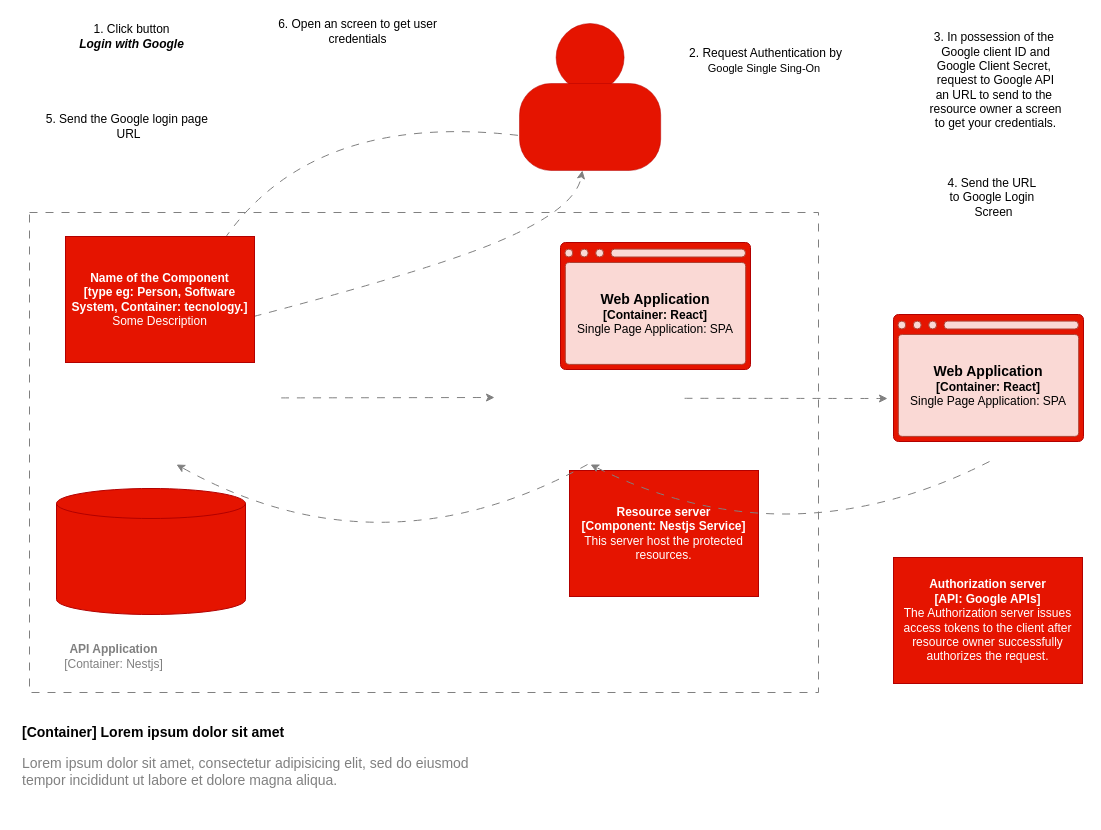
Image size: 1101x830. Some labels were removed from this diagram. Each missing label, with the centre of its shape:
"Container, Database" goes at point 151,551.
"Resource owner [User]" goes at point 589,126.
